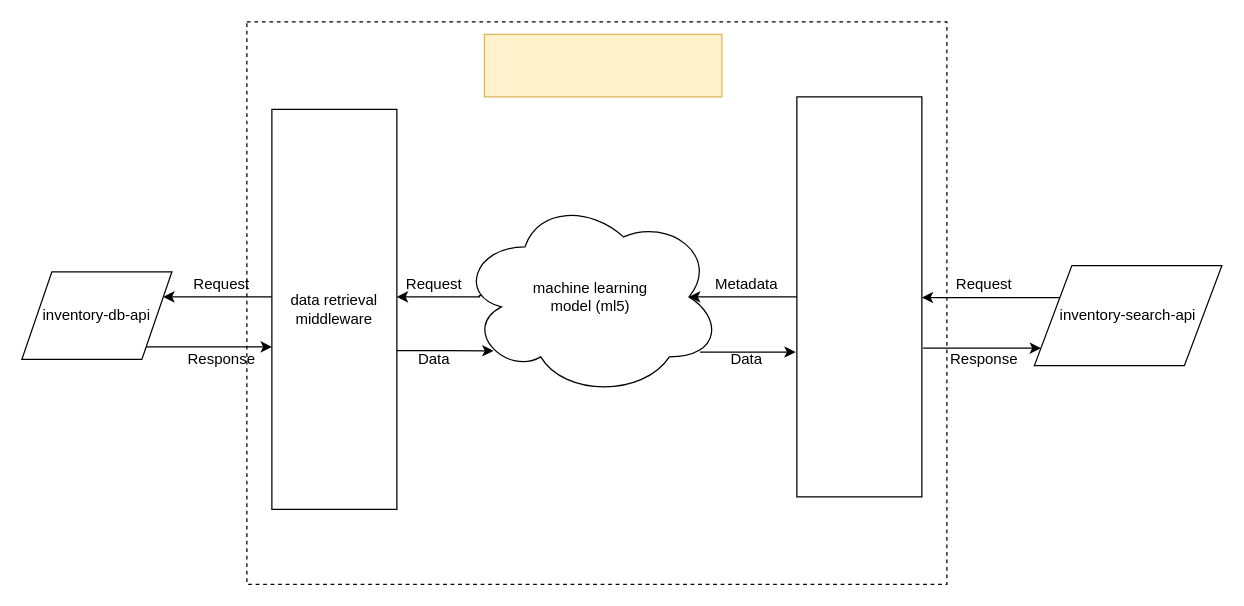
Image size: 1244x606. Some labels were removed from this diagram. The centre of each missing label's shape, as x and y in pixels:
"Inventory Search Business Logic" goes at [602,65].
"request/response transformation middleware" goes at [859,296].
